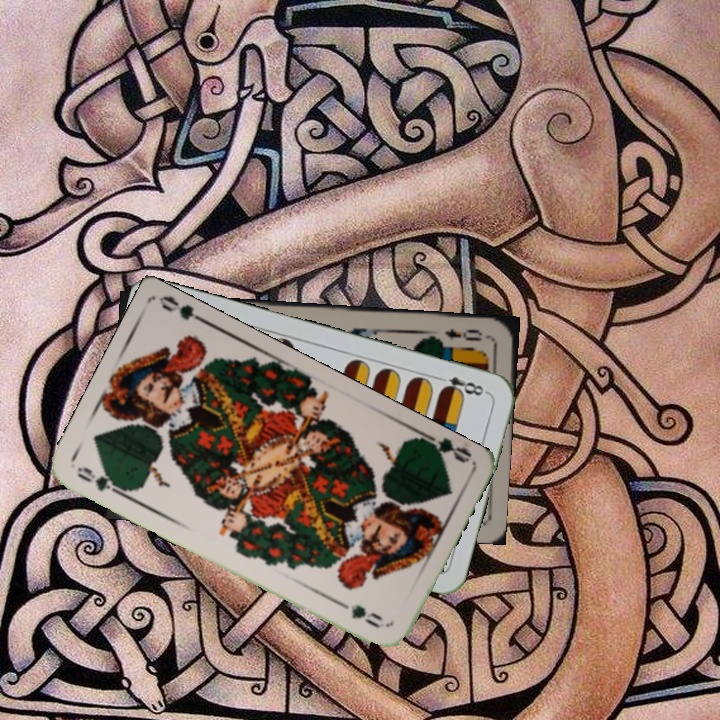E8: (433, 372, 491, 399)
EO: (440, 324, 485, 344)
GO: (415, 427, 473, 466), (73, 462, 130, 499)
